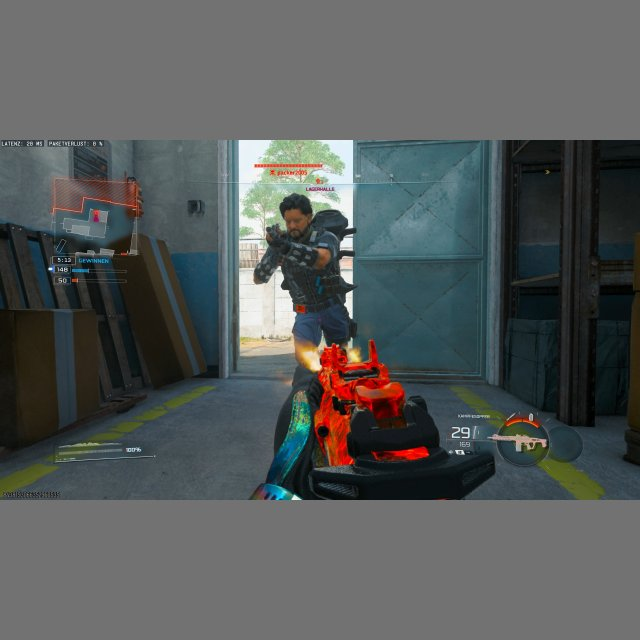head: (280, 193, 313, 234)
player: (252, 192, 357, 373)
